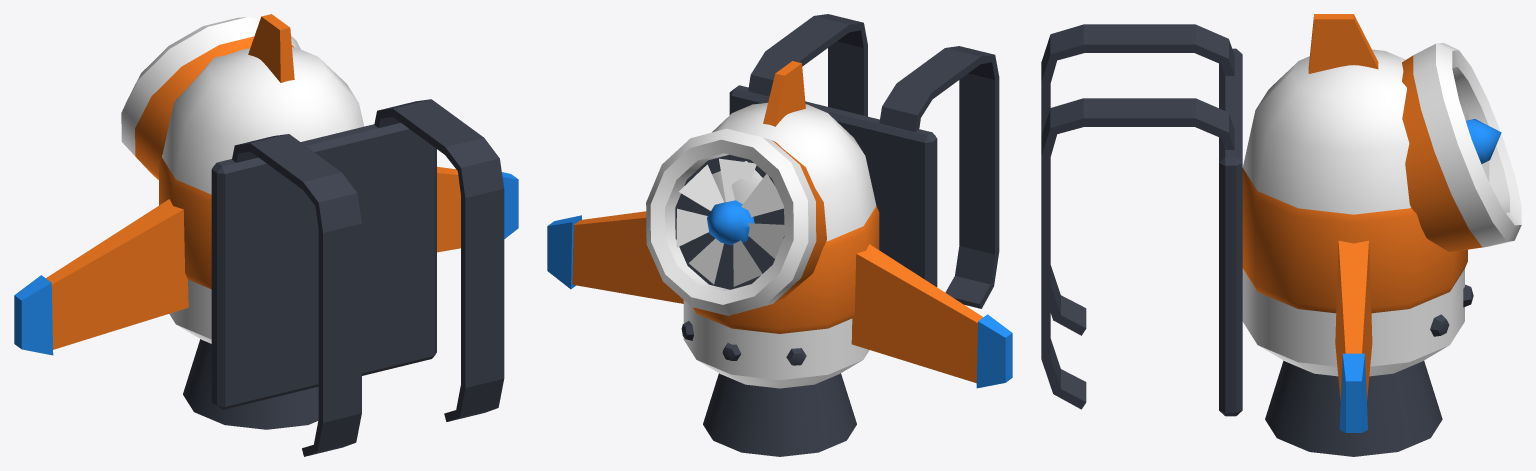
Rendered from propulseur_reacteur.fbx.
3 renders of one model, left to right at view 1: azimuth 30°, elevation 25°; view 2: azimuth 150°, elevation 25°; view 3: azimuth 270°, elevation 25°, orthographic. The views are drawn at different scales.
Visible parts, largest first — view 1: propulseur_reacteur_Sangles, propulseur_reacteur_Orange, propulseur_reacteur_Blanc, propulseur_reacteur_Sombre, propulseur_reacteur_Bleu; view 2: propulseur_reacteur_Blanc, propulseur_reacteur_Sangles, propulseur_reacteur_Orange, propulseur_reacteur_Sombre, propulseur_reacteur_Helice, propulseur_reacteur_Bleu; view 3: propulseur_reacteur_Blanc, propulseur_reacteur_Orange, propulseur_reacteur_Sangles, propulseur_reacteur_Sombre, propulseur_reacteur_Bleu.
Boxes of the visible parts, bbox=[...] form: propulseur_reacteur_Sangles: bbox=[211, 99, 504, 456]; propulseur_reacteur_Orange: bbox=[46, 14, 460, 349]; propulseur_reacteur_Blanc: bbox=[121, 17, 364, 343]; propulseur_reacteur_Sombre: bbox=[183, 339, 318, 429]; propulseur_reacteur_Bleu: bbox=[14, 172, 518, 355]; propulseur_reacteur_Blanc: bbox=[646, 102, 876, 388]; propulseur_reacteur_Sangles: bbox=[729, 14, 999, 308]; propulseur_reacteur_Orange: bbox=[572, 61, 983, 383]; propulseur_reacteur_Sombre: bbox=[675, 154, 856, 456]; propulseur_reacteur_Helice: bbox=[676, 158, 784, 286]; propulseur_reacteur_Bleu: bbox=[547, 200, 1012, 388]; propulseur_reacteur_Blanc: bbox=[1242, 43, 1521, 376]; propulseur_reacteur_Orange: bbox=[1242, 14, 1487, 400]; propulseur_reacteur_Sangles: bbox=[1041, 24, 1242, 416]; propulseur_reacteur_Sombre: bbox=[1265, 284, 1473, 456]; propulseur_reacteur_Bleu: bbox=[1339, 119, 1501, 432].
Bounding box in the file's own units: 3.84 × 2.8 × 3.03.
